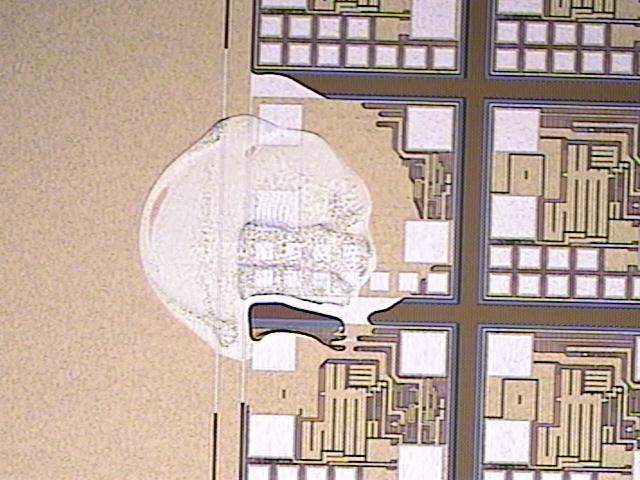BLOCK ETCH: (77, 43, 442, 423)
